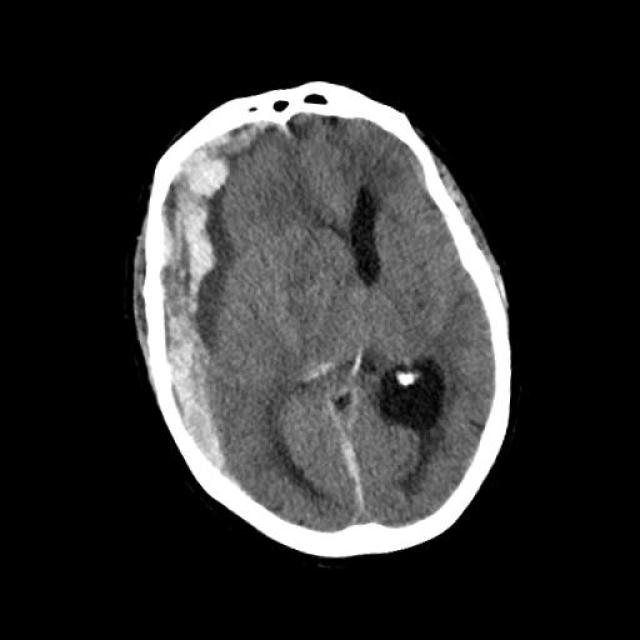Subdural: (126, 95, 292, 491)
